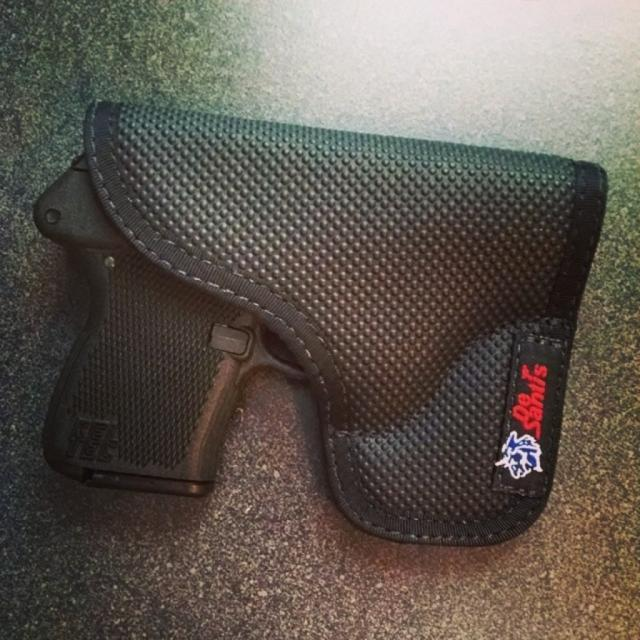Gun: (34, 157, 304, 494)
